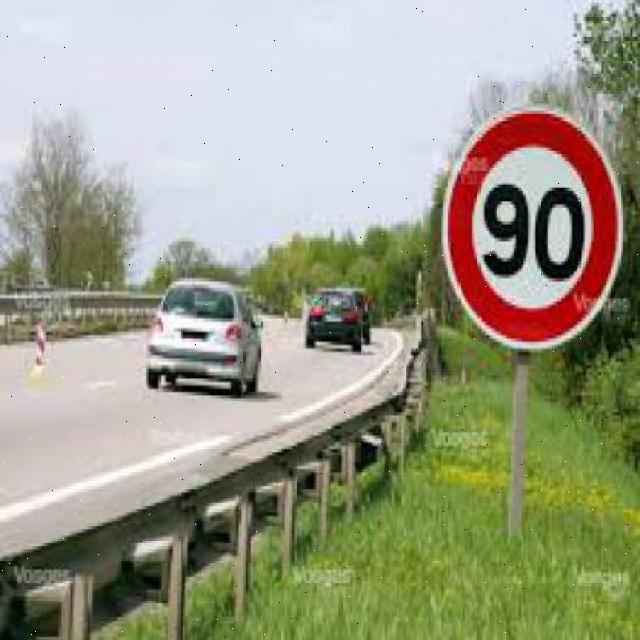speed limit 90: (440, 109, 624, 351)
